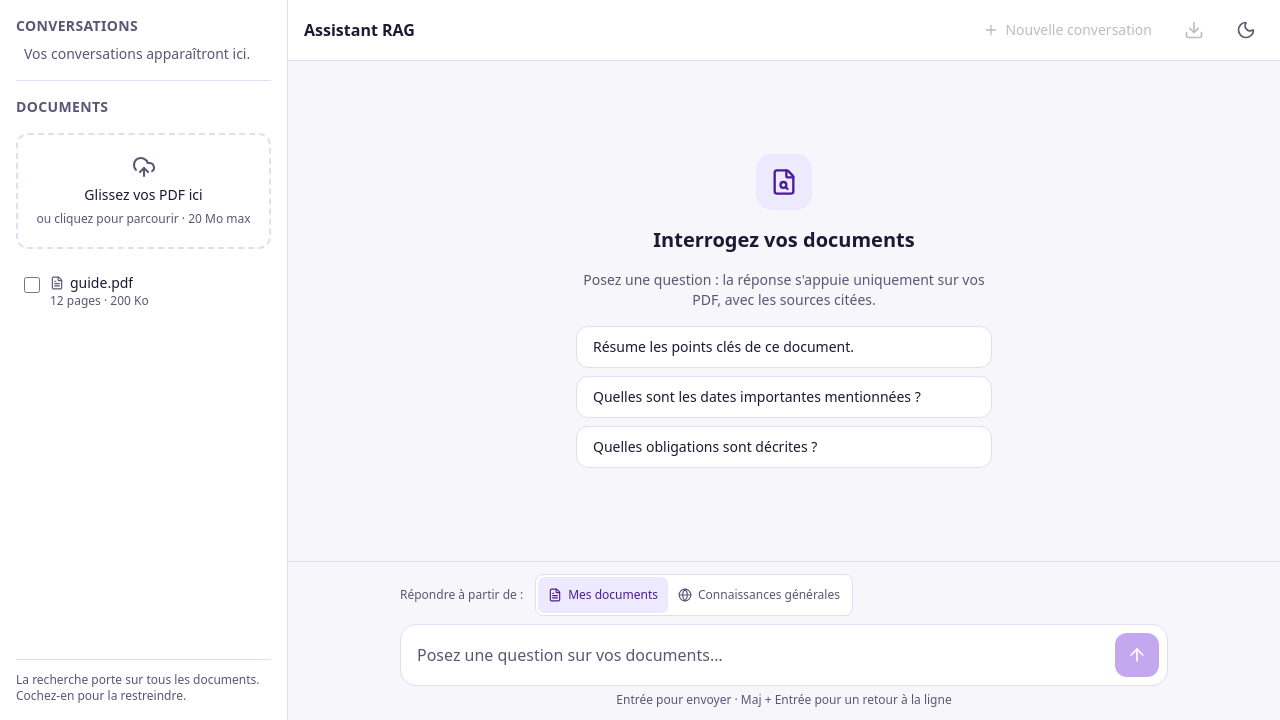
Test: App › asks a failed question again with Réessayer
Expected: the text "guide.pdf" is shown, [70, 273, 133, 293]
Type "Combien de congés ?" into the text box named "Votre question". click: (758, 655)
box: [409, 633, 1107, 677]
Then press Enter
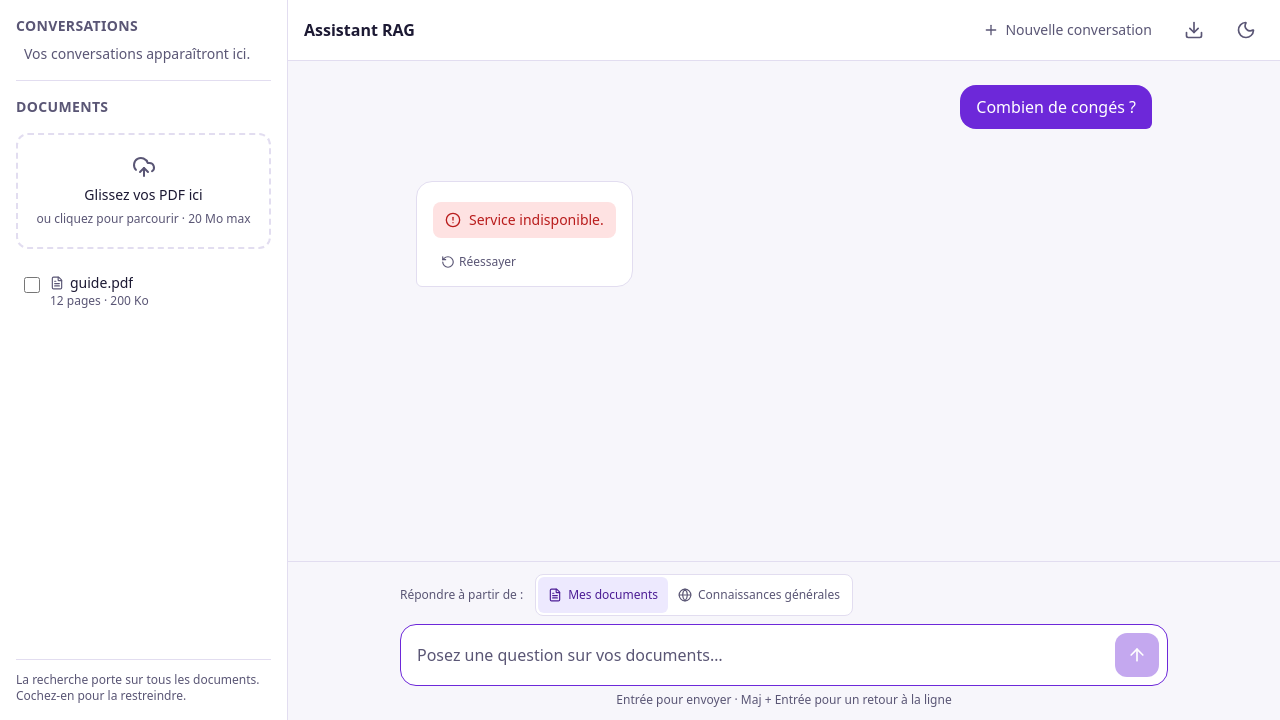
Now the message reads "Service indisponible.", box [469, 210, 604, 229]
Click the button "Réessayer". click: (479, 262)
box: [433, 246, 524, 278]
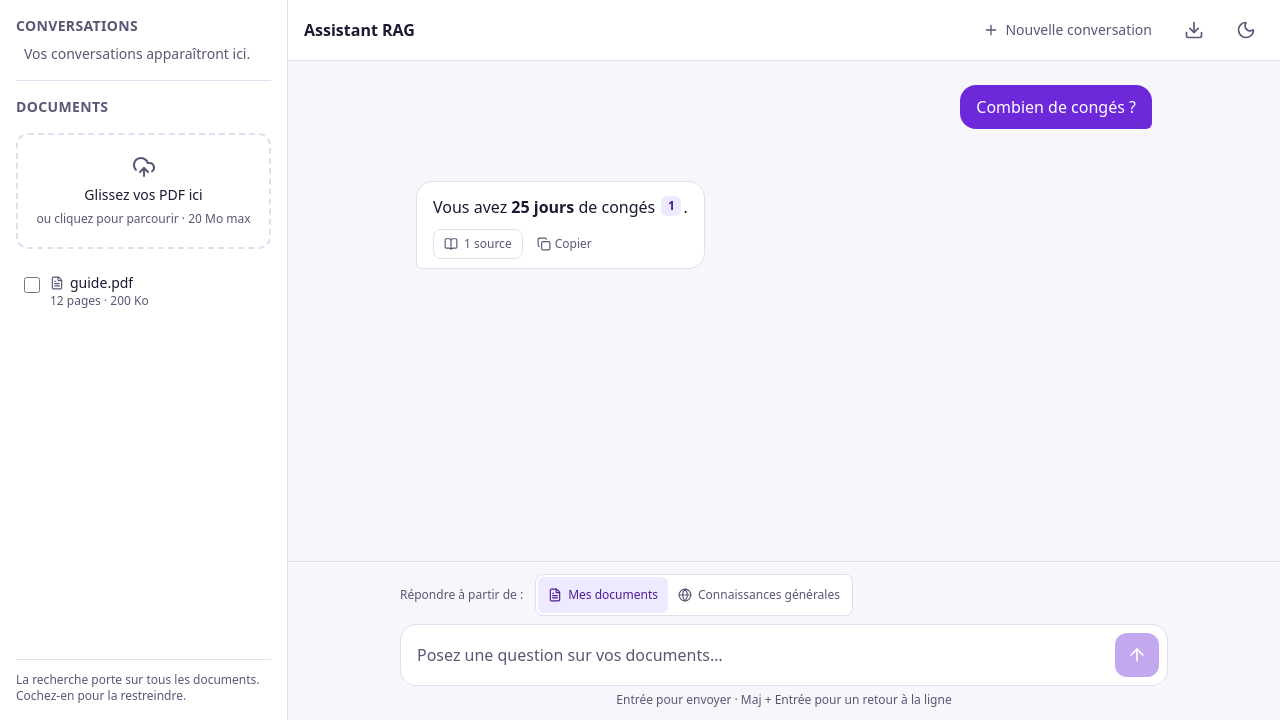
Now the text "Combien de congés ?" is shown once, box [960, 85, 1152, 129]
Now the button named "Voir la source 1" is shown, box [661, 196, 681, 216]
Now the message "Service indisponible." is gone
